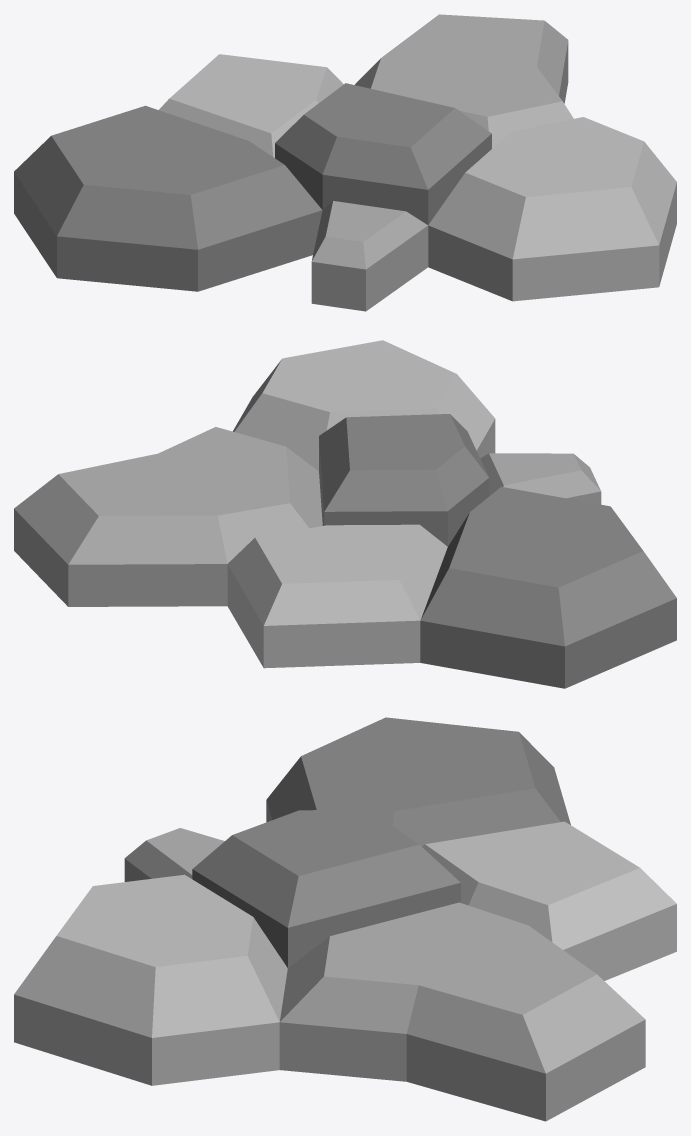
File: rock-type4-02-grey.glb
The picture shows the model from 3 angles, top to bottom: view 1: azimuth 30°, elevation 25°; view 2: azimuth 150°, elevation 25°; view 3: azimuth 270°, elevation 25°; orthographic projection. The views are drawn at different scales.
Parts seen in each view (by area): view 1: Rock_Type4_02_mesh; view 2: Rock_Type4_02_mesh; view 3: Rock_Type4_02_mesh.
Part boxes in pixels (x1,y1,x2,y2): Rock_Type4_02_mesh: (14, 14, 676, 311); Rock_Type4_02_mesh: (14, 340, 676, 688); Rock_Type4_02_mesh: (14, 717, 676, 1121).
Size of the model in its own units: 3.03 by 0.53 by 2.61.
Materials: 1 (1 with a texture image).
